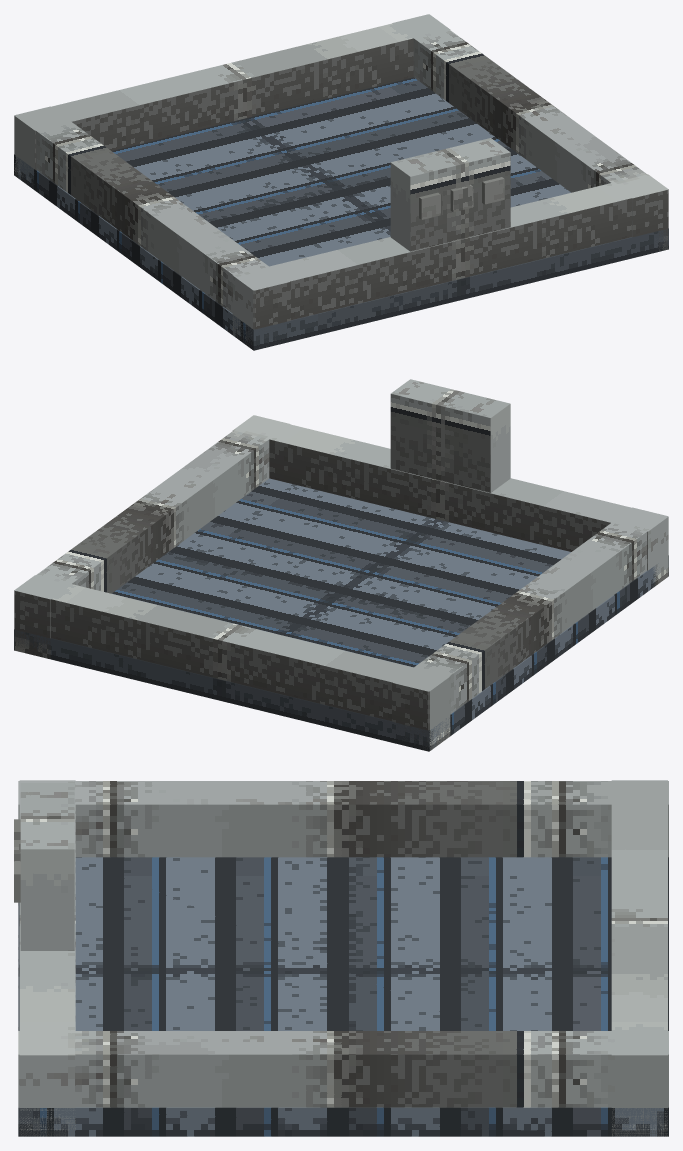
The model's file is uw_plate_frame.glb.
3 views of the same model, one above another, from view 1: azimuth 30°, elevation 25°; view 2: azimuth 150°, elevation 25°; view 3: azimuth 270°, elevation 25° (orthographic). The views are drawn at different scales.
Parts seen in each view (by area): view 1: plate_frame, recess_wall_y1, recess_wall_y-1, recess_wall_x-1, recess_wall_x1, glyph_carrier, class_mark_2, class_mark_0, class_mark_1; view 2: plate_frame, recess_wall_y1, recess_wall_y-1, recess_wall_x1, recess_wall_x-1, glyph_carrier; view 3: plate_frame, recess_wall_x-1, recess_wall_x1, recess_wall_y1, recess_wall_y-1, glyph_carrier.
Part boxes in pixels (<box>): plate_frame: <box>14,77,668,350</box>; recess_wall_y1: <box>14,14,450,187</box>; recess_wall_y-1: <box>232,174,668,346</box>; recess_wall_x-1: <box>14,106,290,347</box>; recess_wall_x1: <box>393,14,668,250</box>; glyph_carrier: <box>390,138,510,251</box>; class_mark_2: <box>482,177,504,204</box>; class_mark_0: <box>419,192,441,219</box>; class_mark_1: <box>450,184,472,212</box>; plate_frame: <box>14,478,668,751</box>; recess_wall_y1: <box>14,575,450,750</box>; recess_wall_y-1: <box>232,415,668,587</box>; recess_wall_x1: <box>14,415,289,659</box>; recess_wall_x-1: <box>392,507,667,751</box>; glyph_carrier: <box>390,379,510,492</box>; plate_frame: <box>18,857,668,1136</box>; recess_wall_x-1: <box>18,781,668,857</box>; recess_wall_x1: <box>18,1031,668,1107</box>; recess_wall_y1: <box>611,780,667,1136</box>; recess_wall_y-1: <box>19,780,75,1136</box>; glyph_carrier: <box>20,783,74,950</box>.
Size of the model in its own units: 2.9 by 0.9 by 2.92.
Materials: 3 (3 with a texture image).
